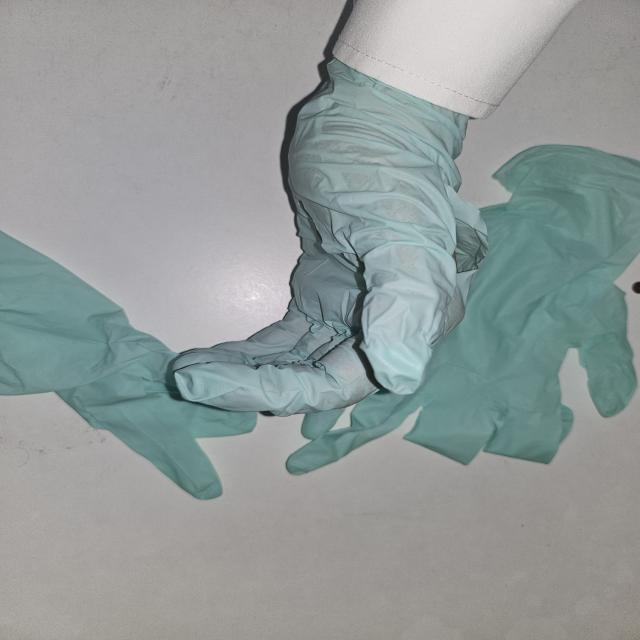gloves_damaged: (163, 57, 492, 419)
